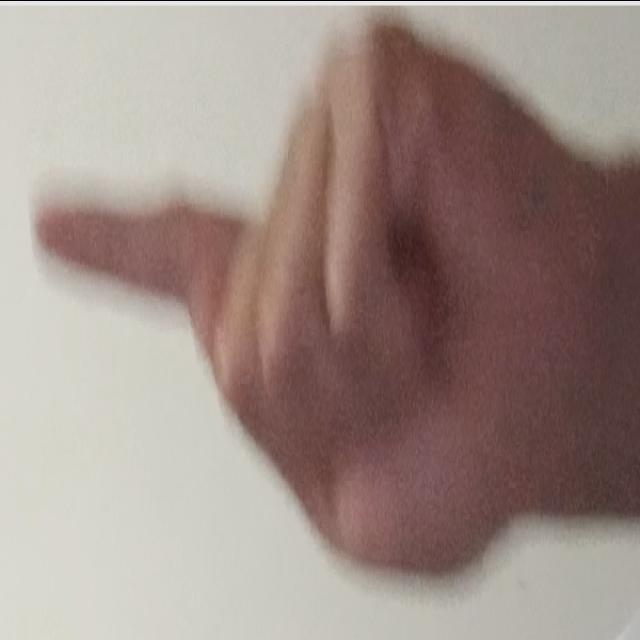Z: (20, 9, 601, 592)
